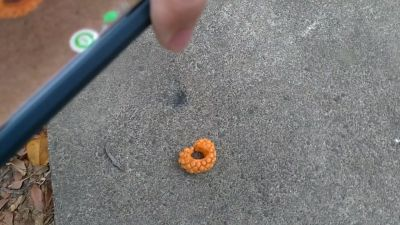eggs: (177, 136, 218, 175)
